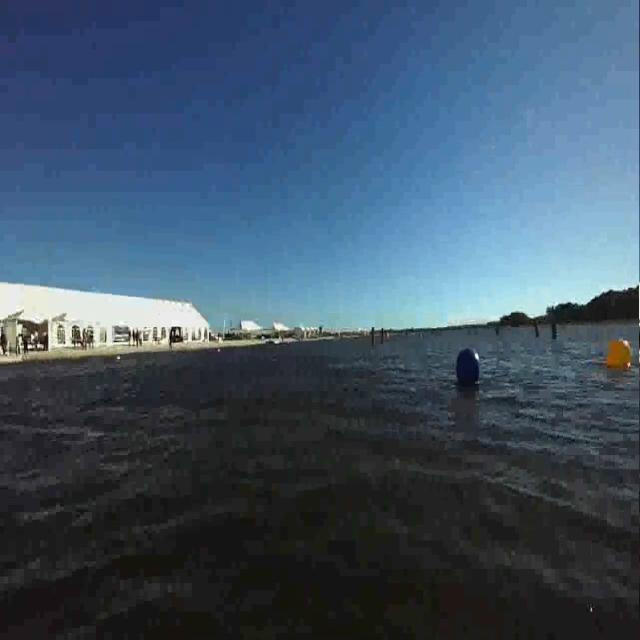blue-buoy: (454, 344, 480, 386)
yellow-buoy: (606, 337, 634, 374)
